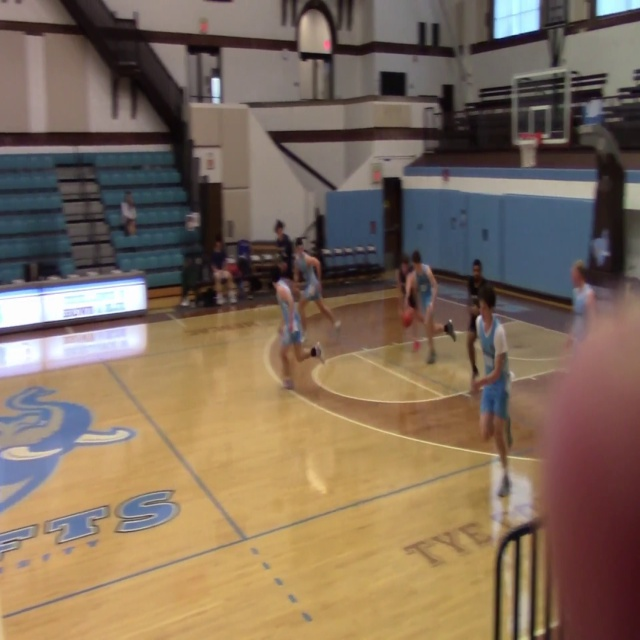Basketball: (400, 307, 414, 327)
